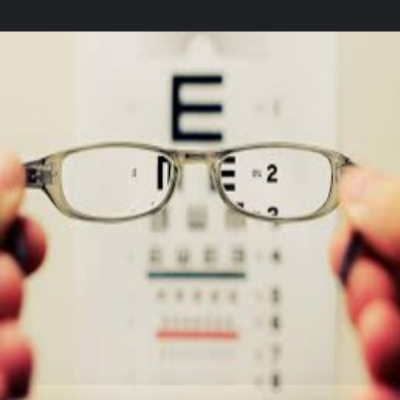glasses: (17, 137, 365, 231)
